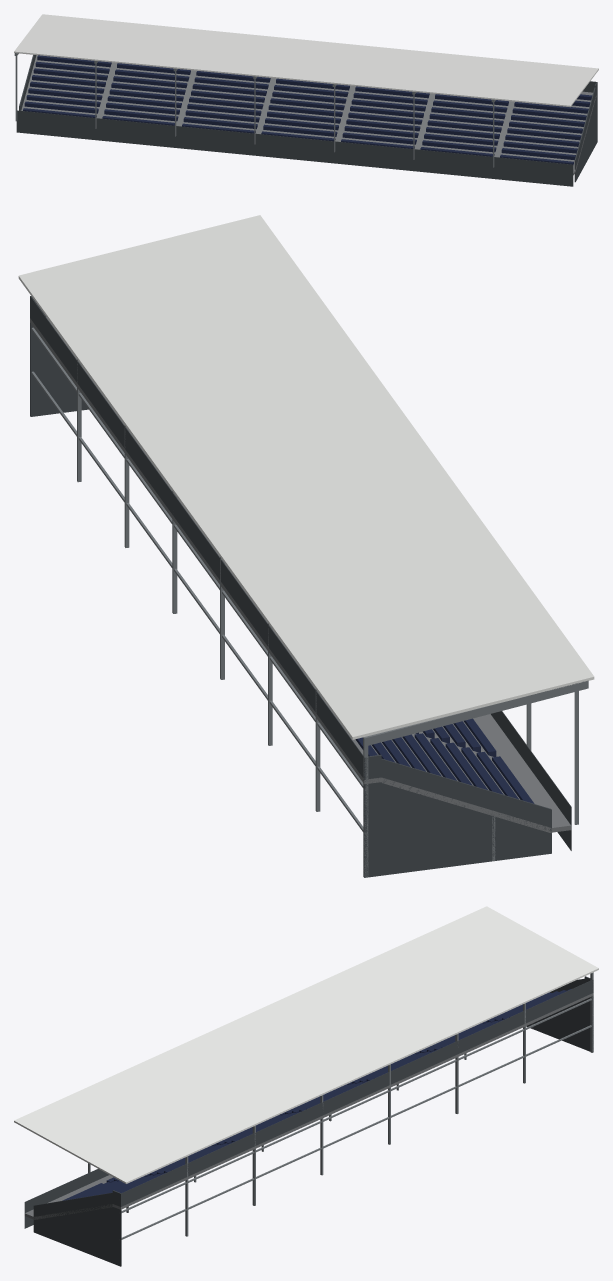
Rendered from sil_stand_copse_b.glb.
The picture shows the model from 3 angles, top to bottom: view 1: azimuth 30°, elevation 25°; view 2: azimuth 150°, elevation 25°; view 3: azimuth 270°, elevation 25°; orthographic projection. The views are drawn at different scales.
Visible parts, largest first — view 1: silverstone-copse-b; view 2: silverstone-copse-b; view 3: silverstone-copse-b.
Part boxes in pixels (x1,y1,x2,y2): silverstone-copse-b: (14, 14, 598, 186); silverstone-copse-b: (18, 215, 594, 877); silverstone-copse-b: (14, 906, 598, 1266).
Bounding box in the file's own units: 49.84 × 9.36 × 47.66.
